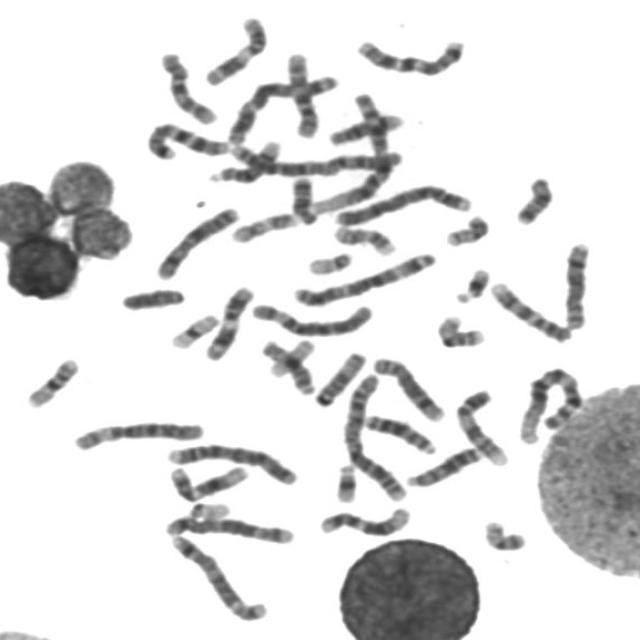A1: (307, 85, 395, 217), (511, 362, 587, 446)
A2: (336, 367, 410, 503), (221, 136, 406, 179)
A3: (288, 246, 439, 308), (222, 69, 340, 146)
B4: (328, 178, 474, 228), (161, 438, 299, 487)
B5: (163, 529, 271, 623), (159, 510, 296, 546)
C10: (154, 47, 220, 126), (280, 46, 322, 140)
C11: (198, 11, 270, 87), (199, 281, 256, 363)
C12: (162, 460, 251, 503), (313, 502, 414, 538)
C6: (244, 297, 376, 338), (66, 416, 206, 452)
C7: (350, 32, 467, 77), (141, 117, 233, 160)
C8: (367, 351, 448, 423), (558, 236, 594, 331)
C9: (484, 276, 576, 344), (450, 384, 512, 468)
D13: (400, 442, 485, 488), (357, 409, 439, 456)
D14: (203, 135, 284, 186), (323, 107, 406, 148)
D15: (307, 346, 368, 408), (256, 336, 316, 396)
E16: (20, 352, 81, 410), (430, 310, 488, 350)
E17: (225, 207, 301, 244), (328, 220, 399, 258)
E18: (509, 171, 557, 227), (285, 172, 321, 225)
F19: (164, 309, 221, 351), (262, 335, 316, 378)
F20: (477, 515, 529, 553), (440, 210, 492, 248)
G21: (449, 262, 494, 305), (330, 458, 360, 504)
G22: (302, 246, 355, 276), (182, 497, 233, 521)
X: (148, 201, 242, 282)
Y: (116, 283, 188, 313)
